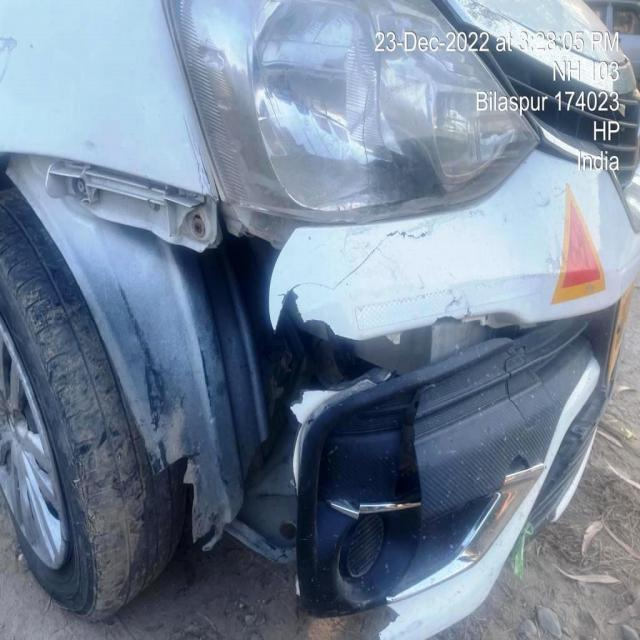damage: (217, 250, 618, 613), (27, 147, 246, 271)
